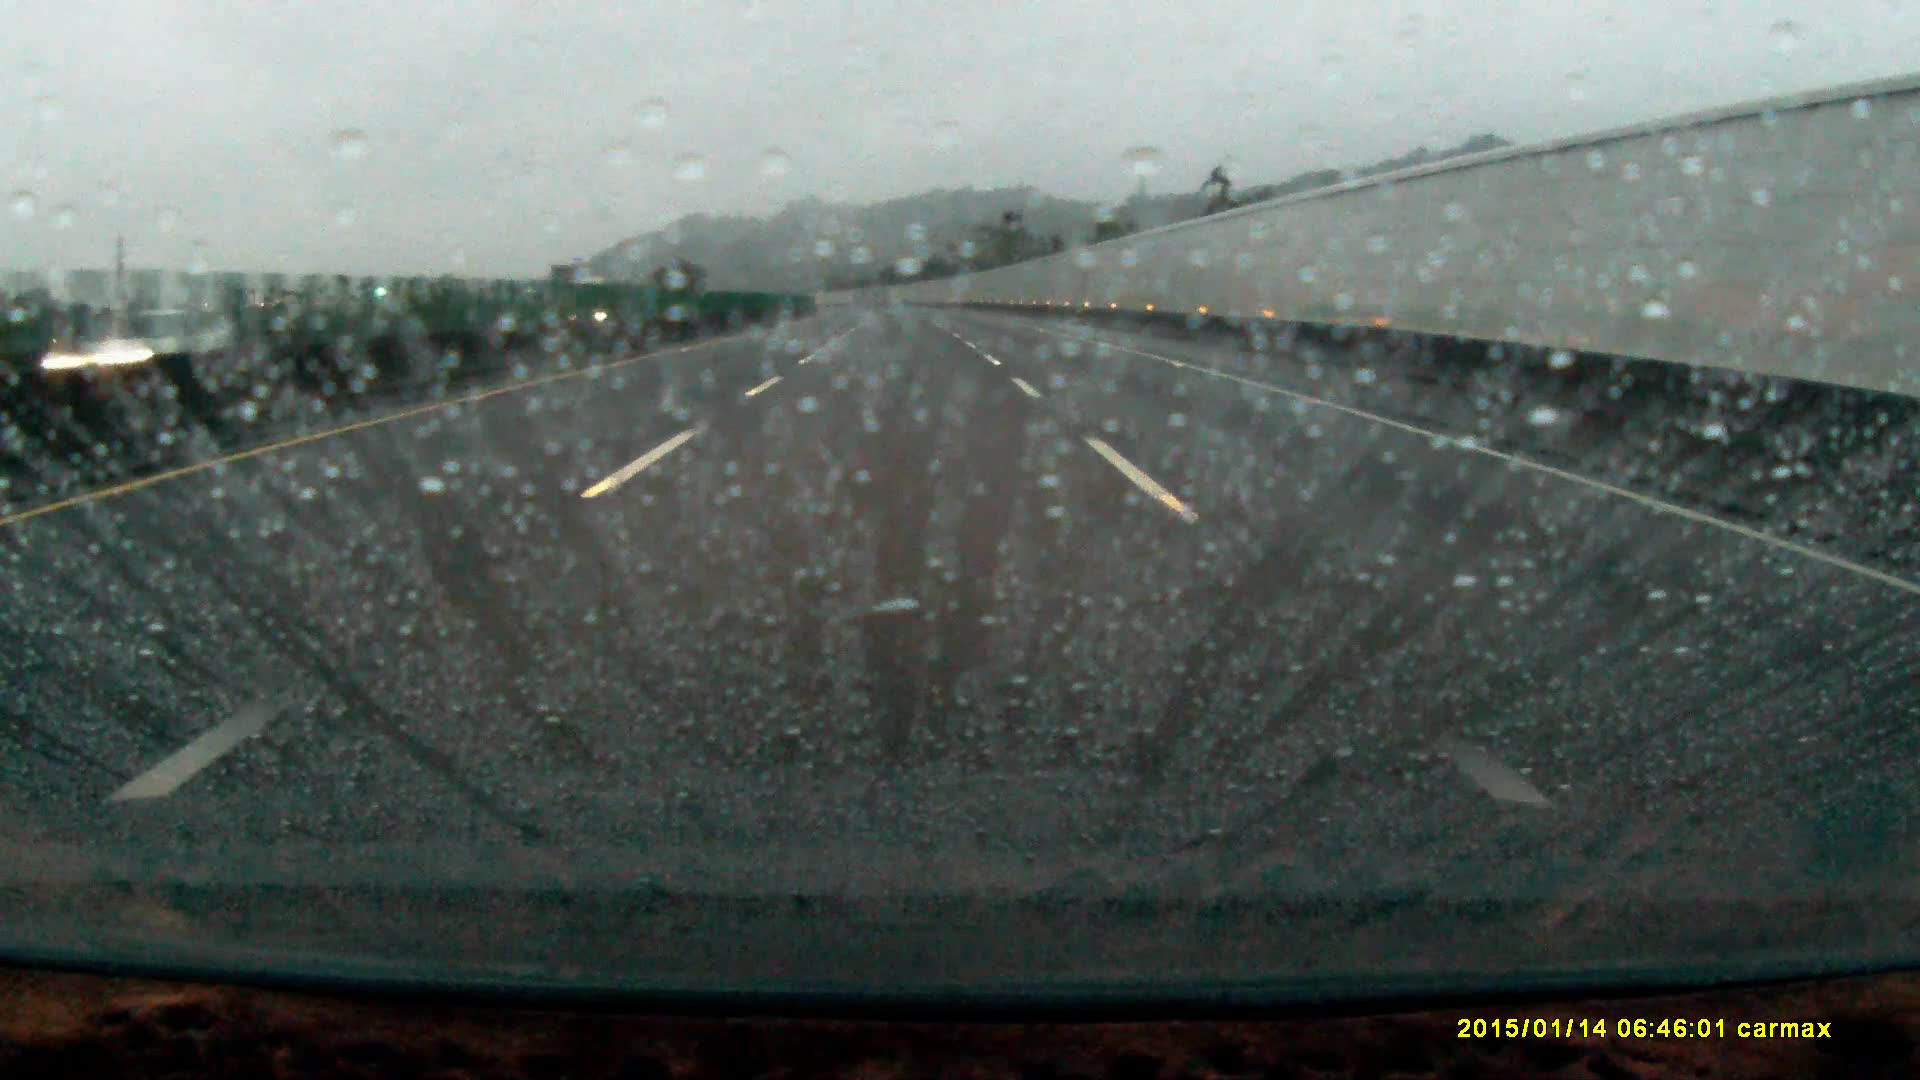vehicle: (36, 305, 243, 407), (560, 301, 634, 334)
